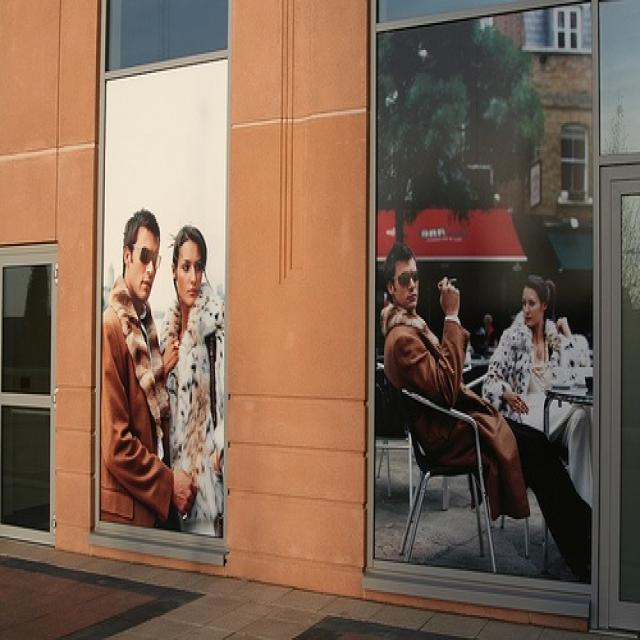chair: (375, 359, 499, 575)
